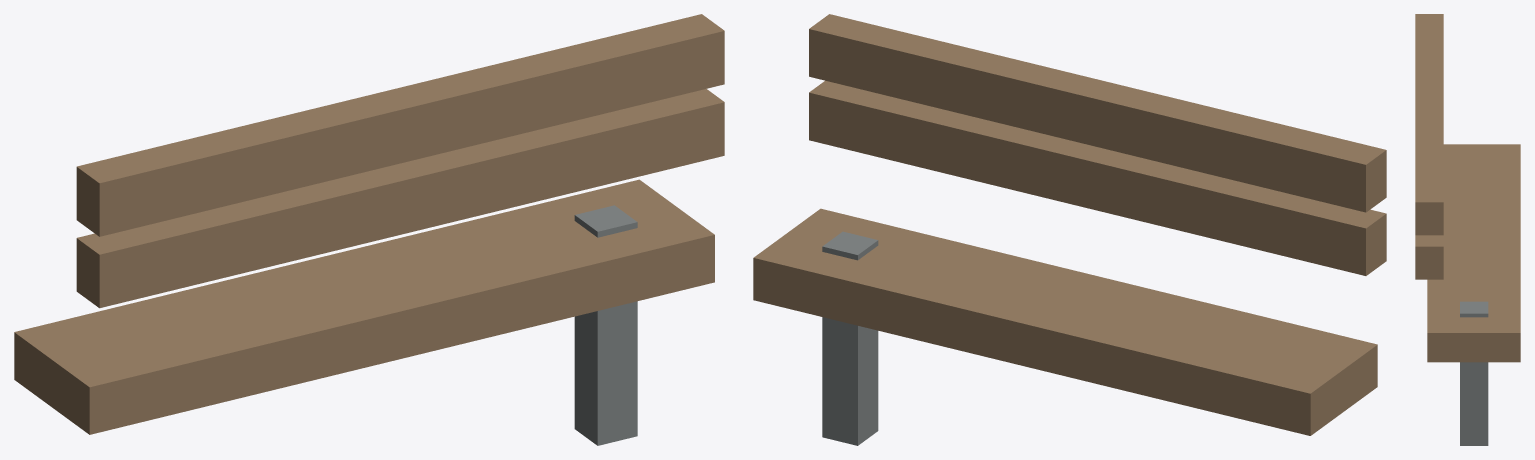
Rendered from bench.gltf.
3 views of the same model, side by side, from view 1: azimuth 30°, elevation 25°; view 2: azimuth 150°, elevation 25°; view 3: azimuth 270°, elevation 25° (orthographic). The views are drawn at different scales.
Visible parts, largest first — view 1: Seat, Back2, Back1, Leg; view 2: Seat, Back2, Back1, Leg; view 3: Seat, Back2, Leg, Back1.
Part boxes in pixels (x1=…): Seat: x1=14, y1=179, x2=714, y2=434; Back2: x1=76, y1=14, x2=724, y2=236; Back1: x1=76, y1=89, x2=724, y2=308; Leg: x1=574, y1=205, x2=637, y2=445; Seat: x1=753, y1=208, x2=1377, y2=435; Back2: x1=809, y1=14, x2=1386, y2=212; Back1: x1=809, y1=80, x2=1386, y2=275; Leg: x1=822, y1=231, x2=878, y2=445; Seat: x1=1427, y1=144, x2=1520, y2=362; Back2: x1=1415, y1=14, x2=1443, y2=235; Leg: x1=1460, y1=301, x2=1488, y2=445; Back1: x1=1415, y1=235, x2=1443, y2=279.
Size of the model in its own units: 2.2 by 1.41 by 0.52.
